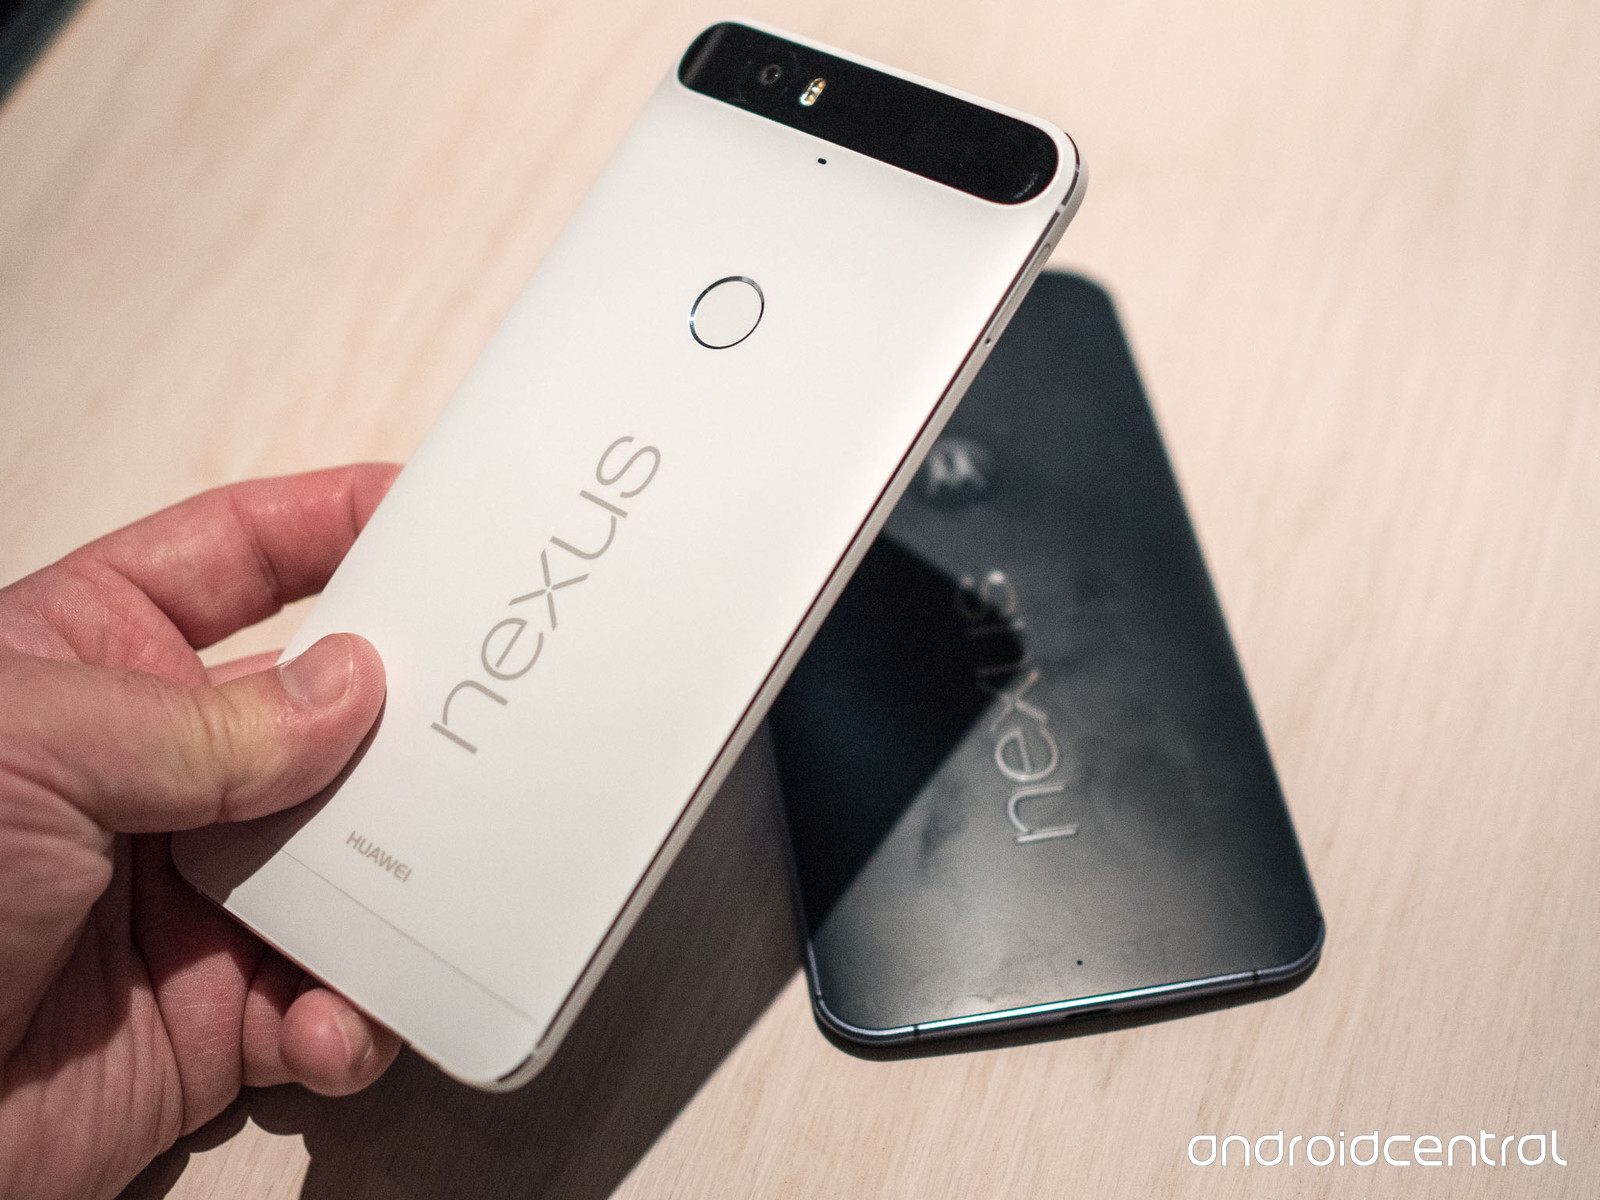smartphone: (168, 21, 1089, 1093), (766, 271, 1327, 1055)
